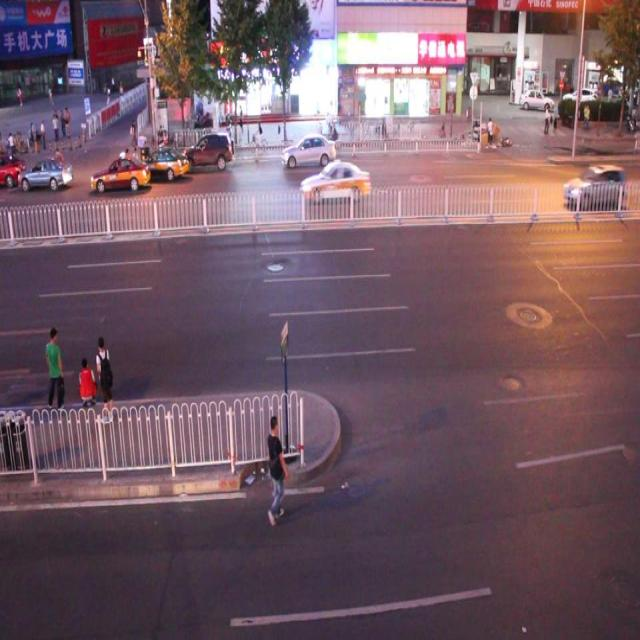car: (302, 159, 369, 202), (563, 164, 621, 206), (90, 154, 150, 192), (281, 132, 336, 169), (185, 132, 234, 170), (140, 146, 188, 180), (20, 160, 74, 190), (1, 150, 25, 185)
